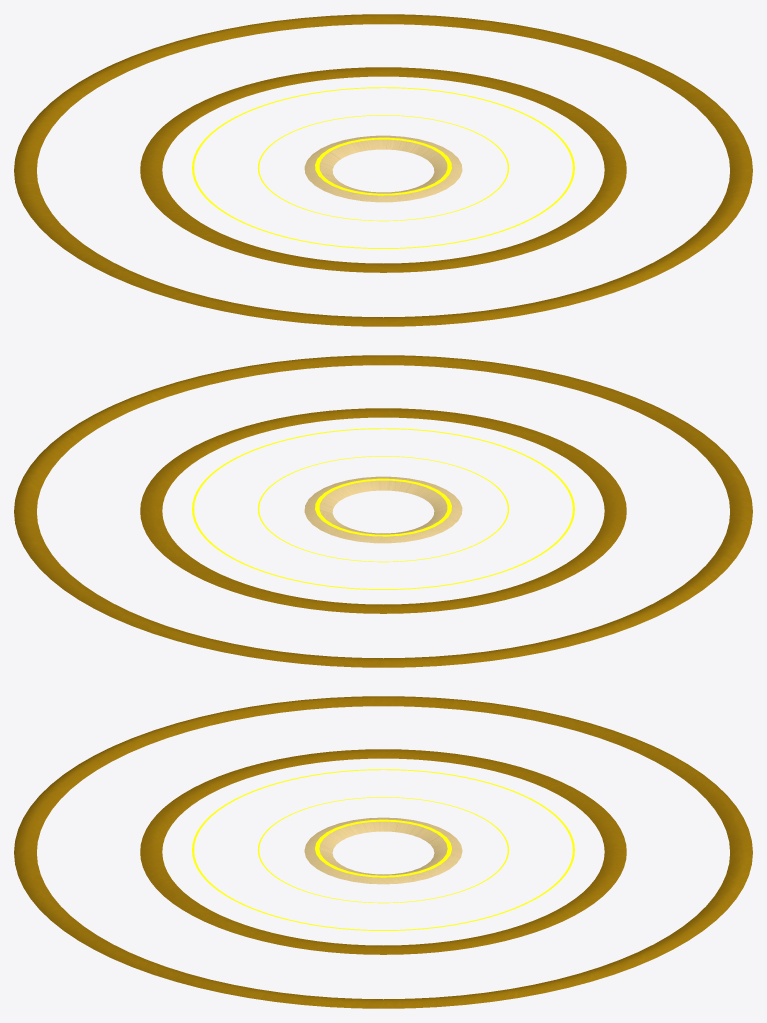
Rendered from ring.fbx.
The picture shows the model from 3 angles, top to bottom: view 1: azimuth 30°, elevation 25°; view 2: azimuth 150°, elevation 25°; view 3: azimuth 270°, elevation 25°; orthographic projection.
Parts seen in each view (by area): view 1: SpownPlace; view 2: SpownPlace; view 3: SpownPlace.
Boxes of the visible parts, <box> form: SpownPlace: <box>14,14,752,326</box>; SpownPlace: <box>14,355,752,667</box>; SpownPlace: <box>14,696,752,1008</box>.
Bounding box in the file's own units: 744 × 4.85 × 744.
Materials: 2 (1 with a texture image).
